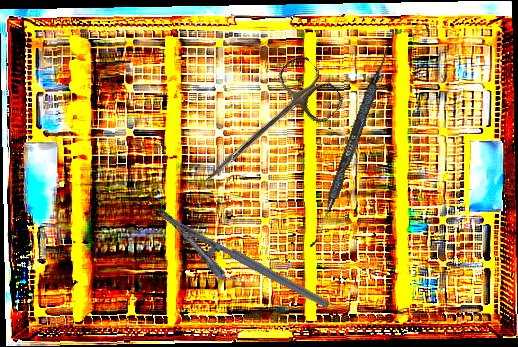Iris Scissors: (185, 50, 348, 209)
Needle Holder: (144, 207, 331, 333)
Spatula Surgical: (309, 42, 393, 251)
